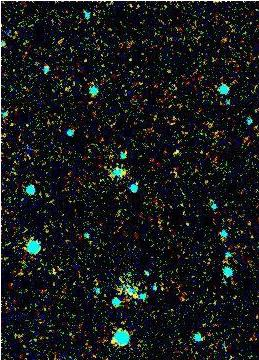star: (41, 27, 71, 57)
